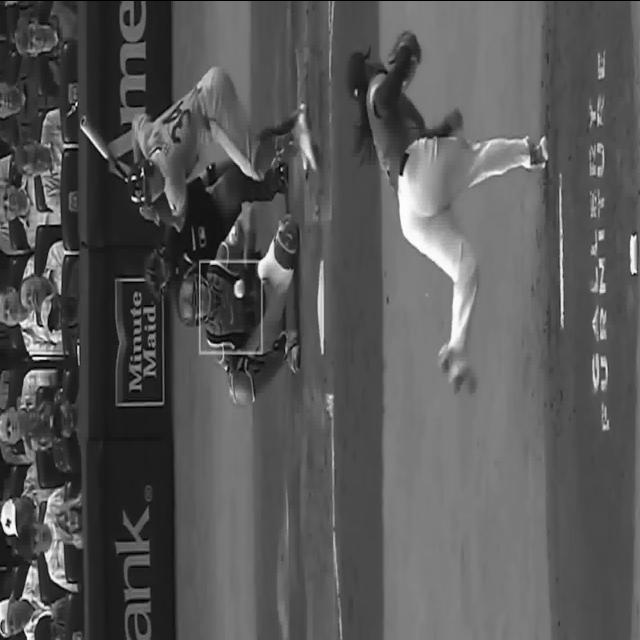baseball: (233, 279, 246, 299)
baseball_glove: (388, 30, 421, 86)
bat: (80, 114, 130, 182)
shoe: (438, 342, 477, 396), (292, 102, 318, 172), (528, 134, 548, 170), (284, 344, 300, 374)
